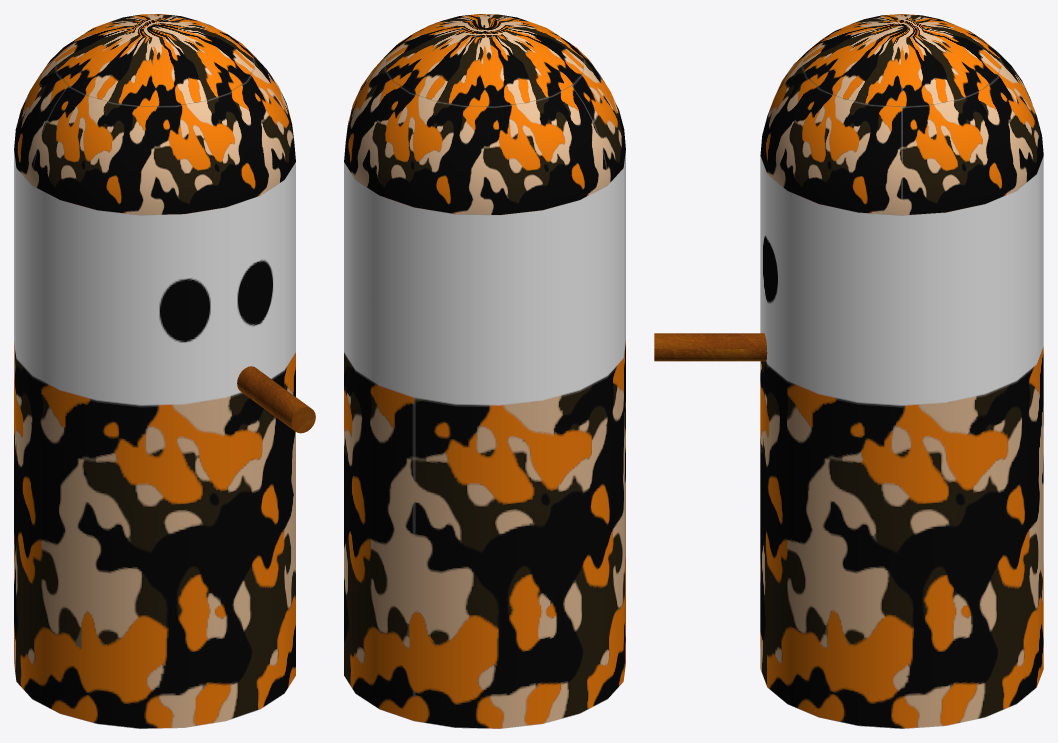
The model's file is soldierorange.fbx.
3 views of the same model, side by side, from view 1: azimuth 30°, elevation 25°; view 2: azimuth 150°, elevation 25°; view 3: azimuth 270°, elevation 25° (orthographic).
Parts seen in each view (by area): view 1: polySurface1, pCylinder2; view 2: polySurface1; view 3: polySurface1, pCylinder2.
Part boxes in pixels (x1,y1,x2,y2): polySurface1: (14, 14, 295, 728); pCylinder2: (237, 366, 315, 433); polySurface1: (344, 14, 625, 728); polySurface1: (760, 14, 1043, 728); pCylinder2: (654, 333, 767, 361).
Bounding box in the file's own units: 2 × 5 × 2.75.
3 materials, 3 textured.
